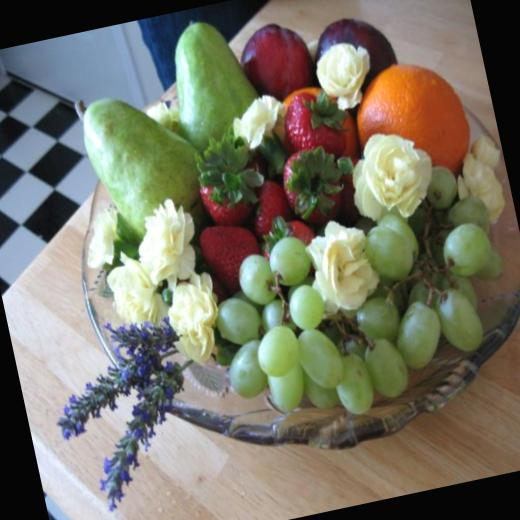Grape: (342, 53, 467, 171)
